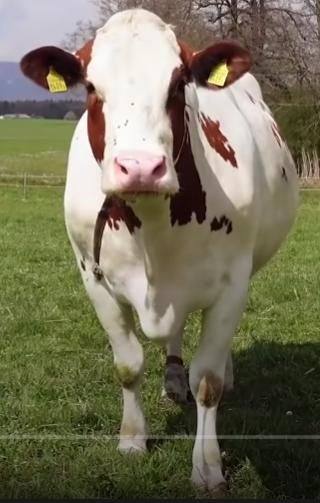cow: (20, 7, 300, 503)
